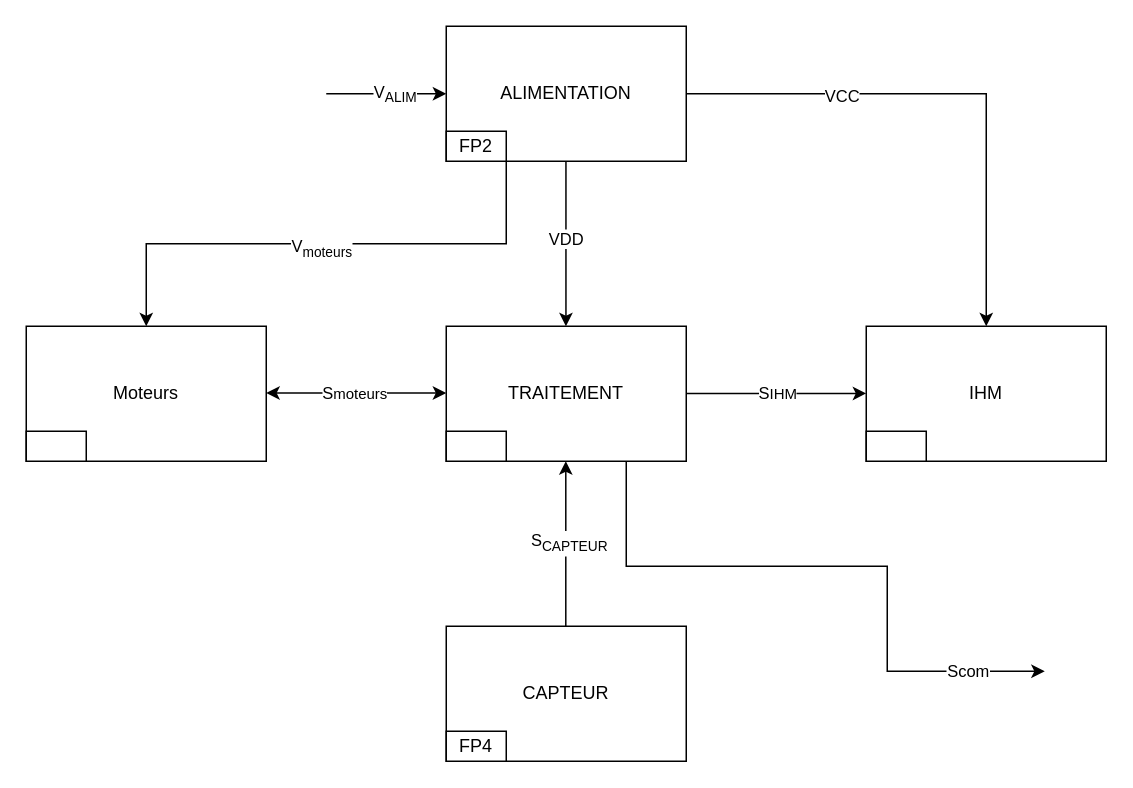
This 1133x788 diagram has some shape labels left out. The shapes that lost their labels are listed below. From the top down, each one's centre as x and y in pixels, then its label:
At (x=55, y=445): "FP5".
At (x=475, y=445): "FP1".
At (x=895, y=445): "FP3".
